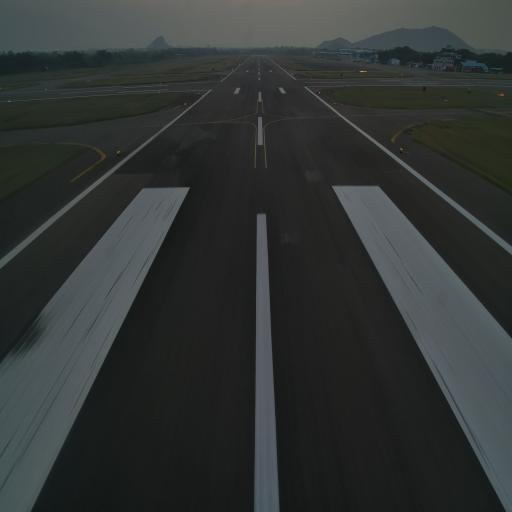on: (399, 146, 404, 154), (116, 147, 120, 156)
